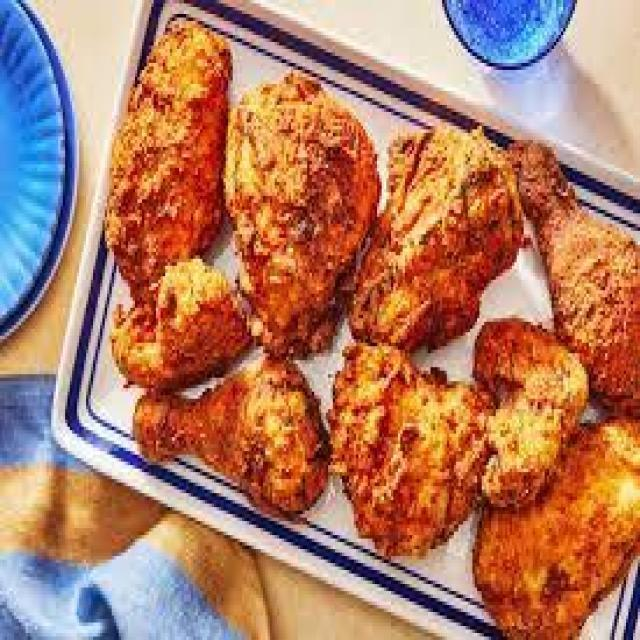Chicken -Fried Chicken-: (122, 9, 411, 453), (204, 78, 376, 355), (325, 338, 488, 544), (126, 358, 328, 513)
